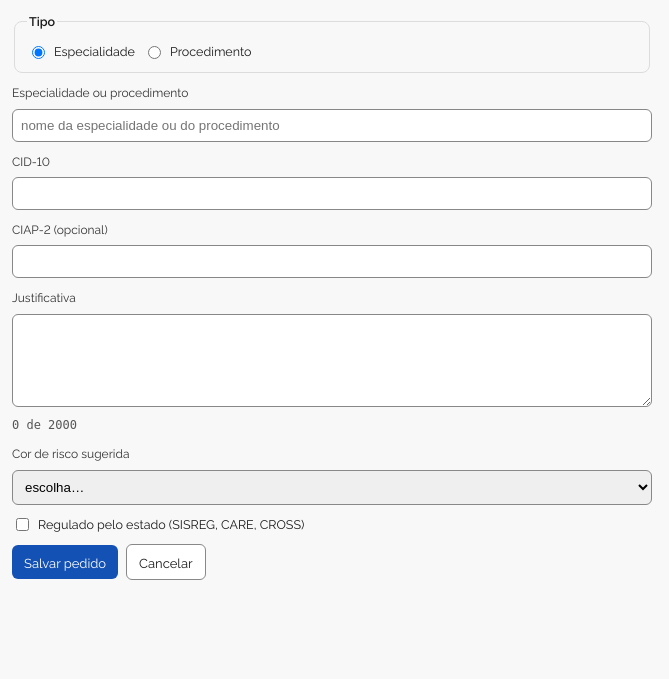
Test: RequestForm › recusa do api (403 cbo_not_allowed) fica no formulário, com o que foi digitado
In the field labelled "Especialidade ou procedimento": (332, 125) [12,109,652,142], type "cardio"
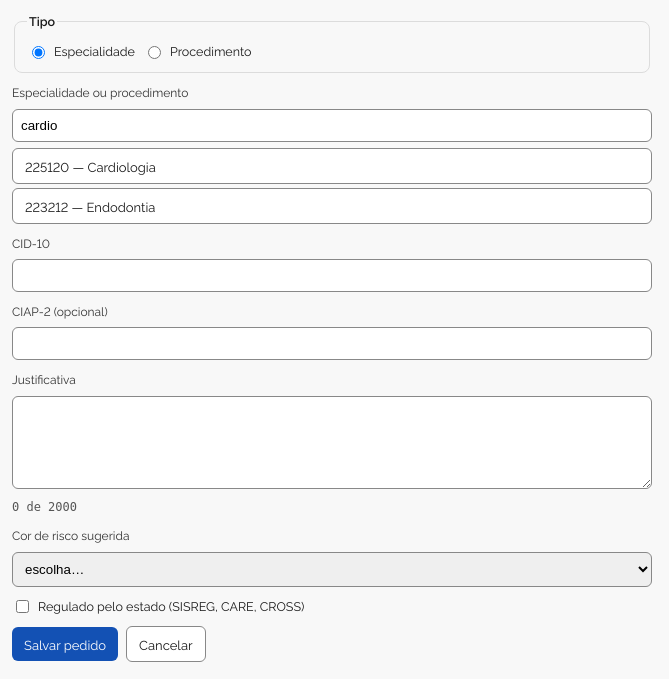
Click the button "225120 — Cardiologia": (90, 166) [12,148,652,184]
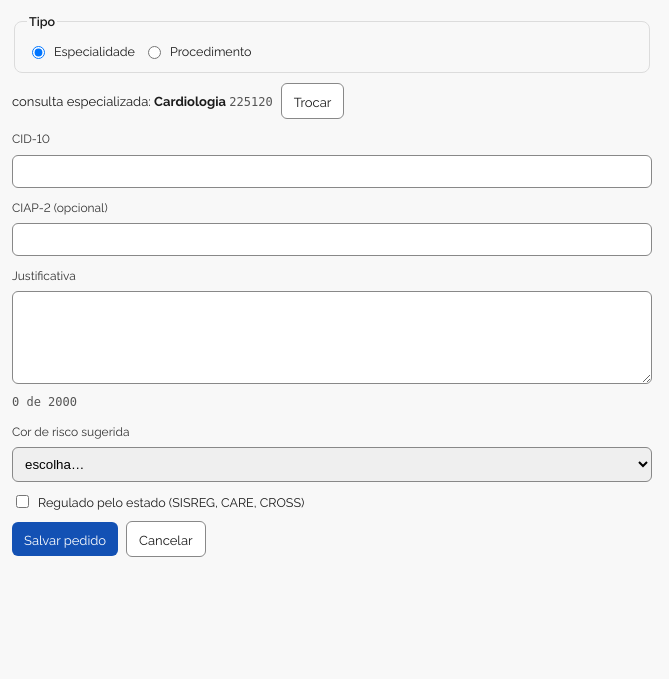
In the field labelled "CID-10": (332, 171) [12,155,652,188], type "I209"
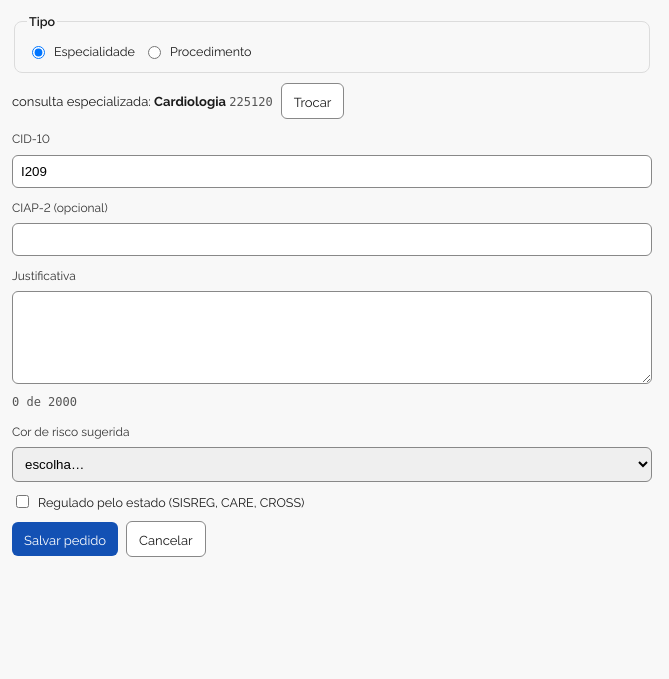
In the text box labelled "Justificativa": (332, 338) [12,291,652,384], type "Dor torácica aos esforços há 3 meses, teste ergométrico alterado."
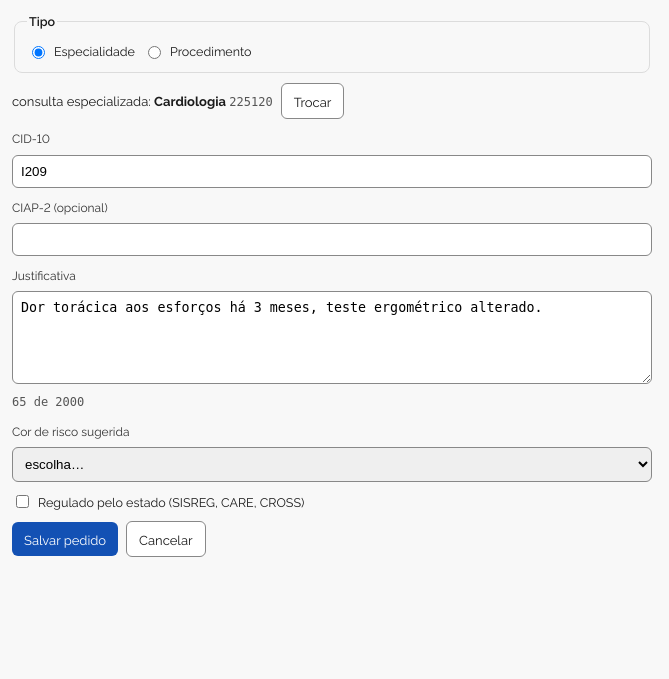
Select "amarelo" in the dropdown labelled "Cor de risco sugerida": (332, 465) [12,447,652,482]
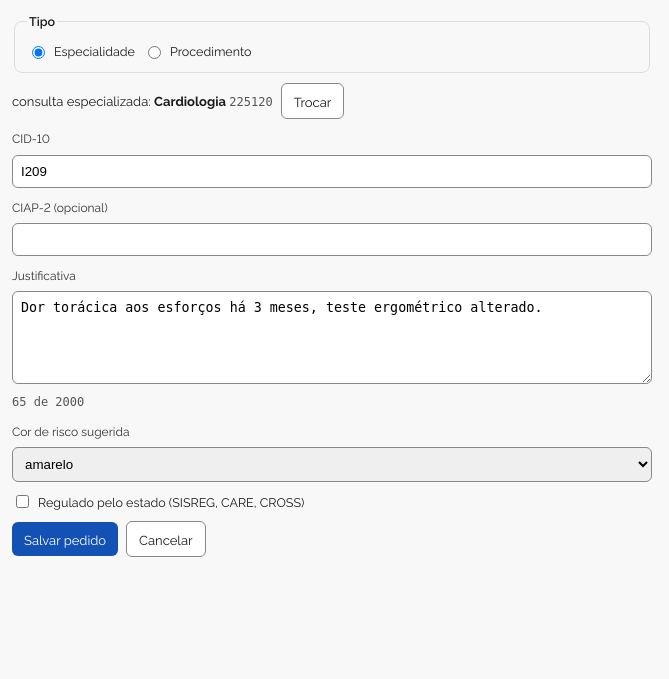
Click the button "Salvar pedido": (65, 539) [12,522,118,556]
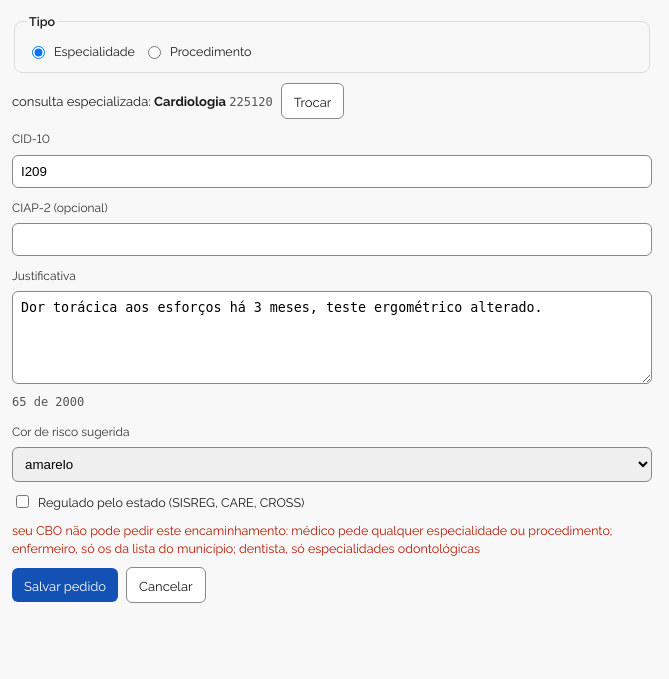
Check: the message shows "seu CBO não pode pedir este encaminhamento", box [12,521,612,556]
